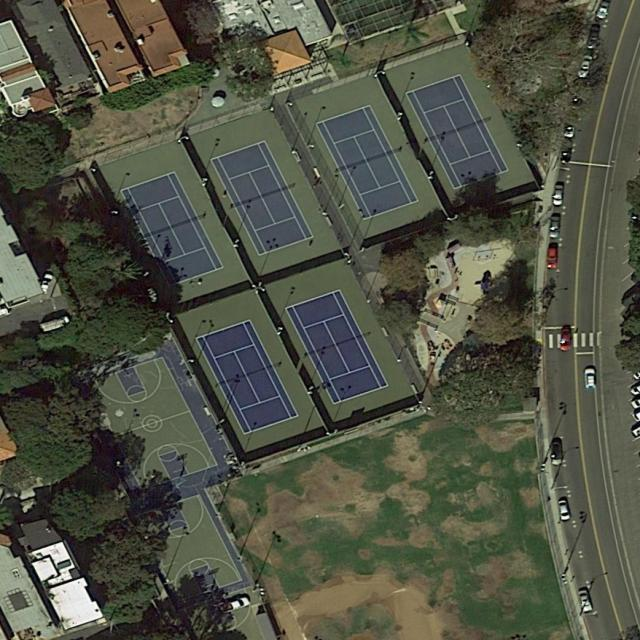large-vehicle: (39, 316, 72, 335)
small-vehicle: (218, 596, 251, 616), (574, 54, 594, 81), (585, 26, 602, 50), (577, 590, 594, 613), (563, 115, 579, 137), (559, 140, 573, 164), (550, 441, 563, 466), (552, 184, 566, 207), (548, 215, 561, 239), (559, 327, 571, 353), (557, 500, 571, 522), (584, 368, 596, 389), (547, 249, 558, 270)
